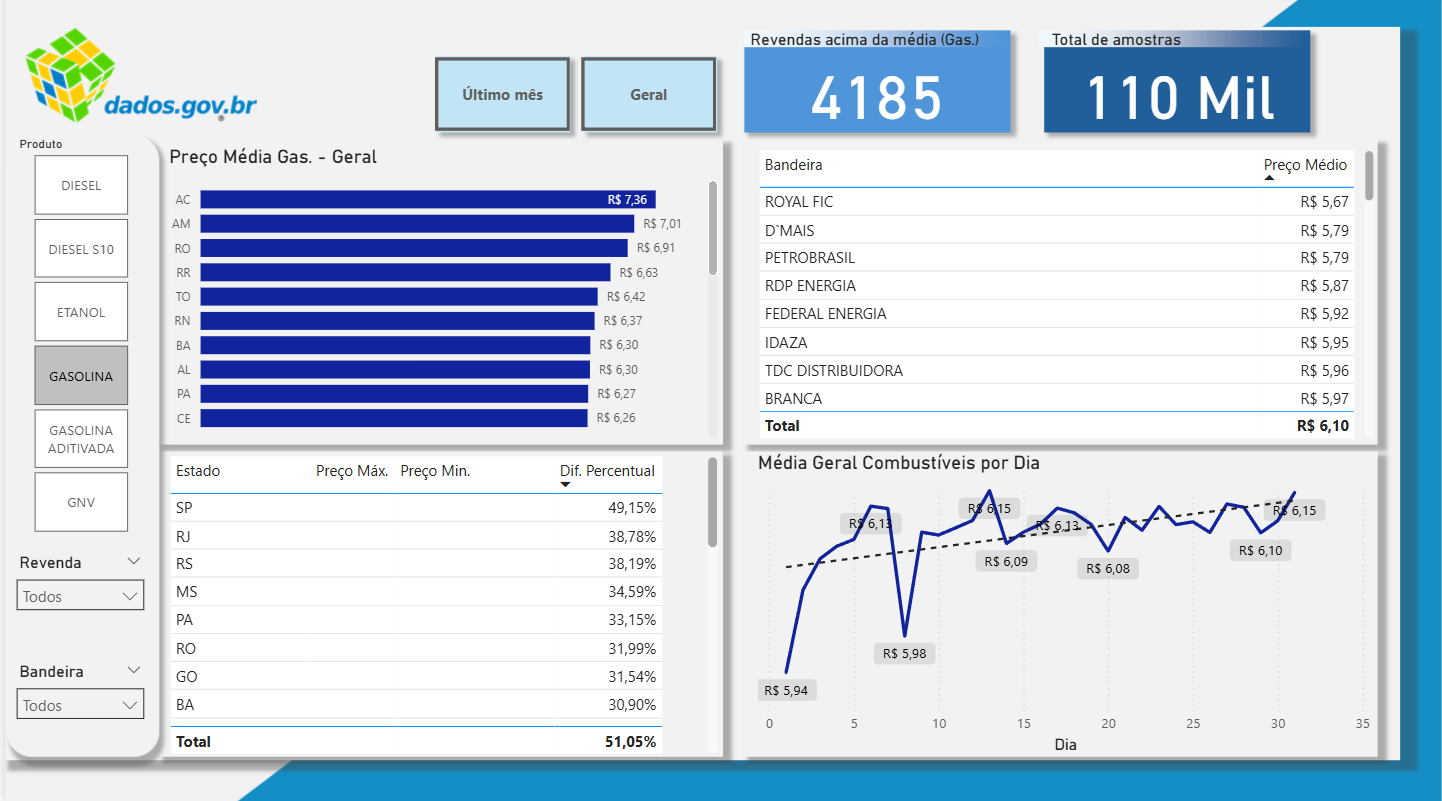

The dashboard page shown, as its layout file describes it:
{"tool":"powerbi","page":{"name":"Relatório de Combustíveis","canvas":[1280,720],"ordinal":0},"visuals":[{"type":"clusteredColumnChart","title":"Preço Médio Gas. - ÚItimo mês base","fields":{"Category":["dEstados.Estado - Sigla"],"Y":["Medidas.Preco Medio Gas"]},"box":[141.8,132,498.3,266.6],"z":0},{"type":"card","title":"Revendas acima da média (Gas.)","fields":{"Values":["Medidas.Revendas acima da Media"]},"box":[659,30.5,236.1,89.8],"z":1000},{"type":"tableEx","fields":{"Values":["dBandeiras.Bandeira","Medidas.Media Geral Combustiveis"]},"box":[665.2,132,558.4,266.6],"z":2000},{"type":"tableEx","fields":{"Values":["dEstados.Estado - Sigla","Max(fPrecos.Valor de Venda)","Min(fPrecos.Valor de Venda)1","Medidas.Dif Percent Diesel"]},"box":[141.8,404.9,498.3,274.7],"z":3000},{"type":"lineChart","title":"Média Geral Combustíveis por Dia","fields":{"Category":["fPrecos.Data da Coleta.Variation.Hierarquia de datas.Ano","fPrecos.Data da Coleta.Variation.Hierarquia de datas.Trimestre","fPrecos.Data da Coleta.Variation.Hierarquia de datas.Mês","fPrecos.Data da Coleta.Variation.Hierarquia de datas.Dia"],"Y":["Medidas.Media Geral Combustiveis"]},"box":[665.2,404.9,558.4,274.7],"z":4000},{"type":"slicer","fields":{"Values":["dProdutos.Produto"]},"box":[0,120.3,133.8,363.6],"z":5000},{"type":"card","title":"Total de amostras","fields":{"Values":["Medidas.Total Amostras"]},"box":[927.4,30.5,236.1,89.8],"z":6000},{"type":"slicer","fields":{"Values":["dRevenda.Revenda"]},"box":[0,491.1,133.8,97],"z":8000},{"type":"slicer","fields":{"Values":["dBandeiras.Bandeira"]},"box":[0,588,133.8,80.8],"z":9000},{"type":"actionButton","box":[382.4,54.8,120.3,65.5],"z":10000},{"type":"actionButton","box":[513.5,54.8,120.3,65.5],"z":11000}]}

Visuals, with their boxes in screenshot pixels (x1, y1, x2, y2), scaled from the page's 1280x720 canvas onto the 1442x801 screenshot:
"Preço Médio Gas. - ÚItimo mês base" clusteredColumnChart: BBox(160, 147, 721, 443)
"Revendas acima da média (Gas.)" card: BBox(742, 34, 1008, 134)
tableEx - dBandeiras.Bandeira x Medidas.Media Geral Combustiveis: BBox(749, 147, 1378, 443)
tableEx - dEstados.Estado - Sigla x Max(fPrecos.Valor de Venda): BBox(160, 450, 721, 756)
"Média Geral Combustíveis por Dia" lineChart: BBox(749, 450, 1378, 756)
slicer - dProdutos.Produto: BBox(0, 134, 151, 538)
"Total de amostras" card: BBox(1045, 34, 1311, 134)
slicer - dRevenda.Revenda: BBox(0, 546, 151, 654)
slicer - dBandeiras.Bandeira: BBox(0, 654, 151, 744)
actionButton: BBox(431, 61, 566, 134)
actionButton: BBox(578, 61, 714, 134)
